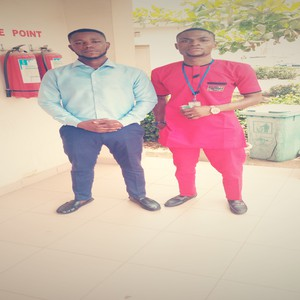Fulokoja_male_student: (47, 27, 133, 207), (161, 31, 244, 209)
